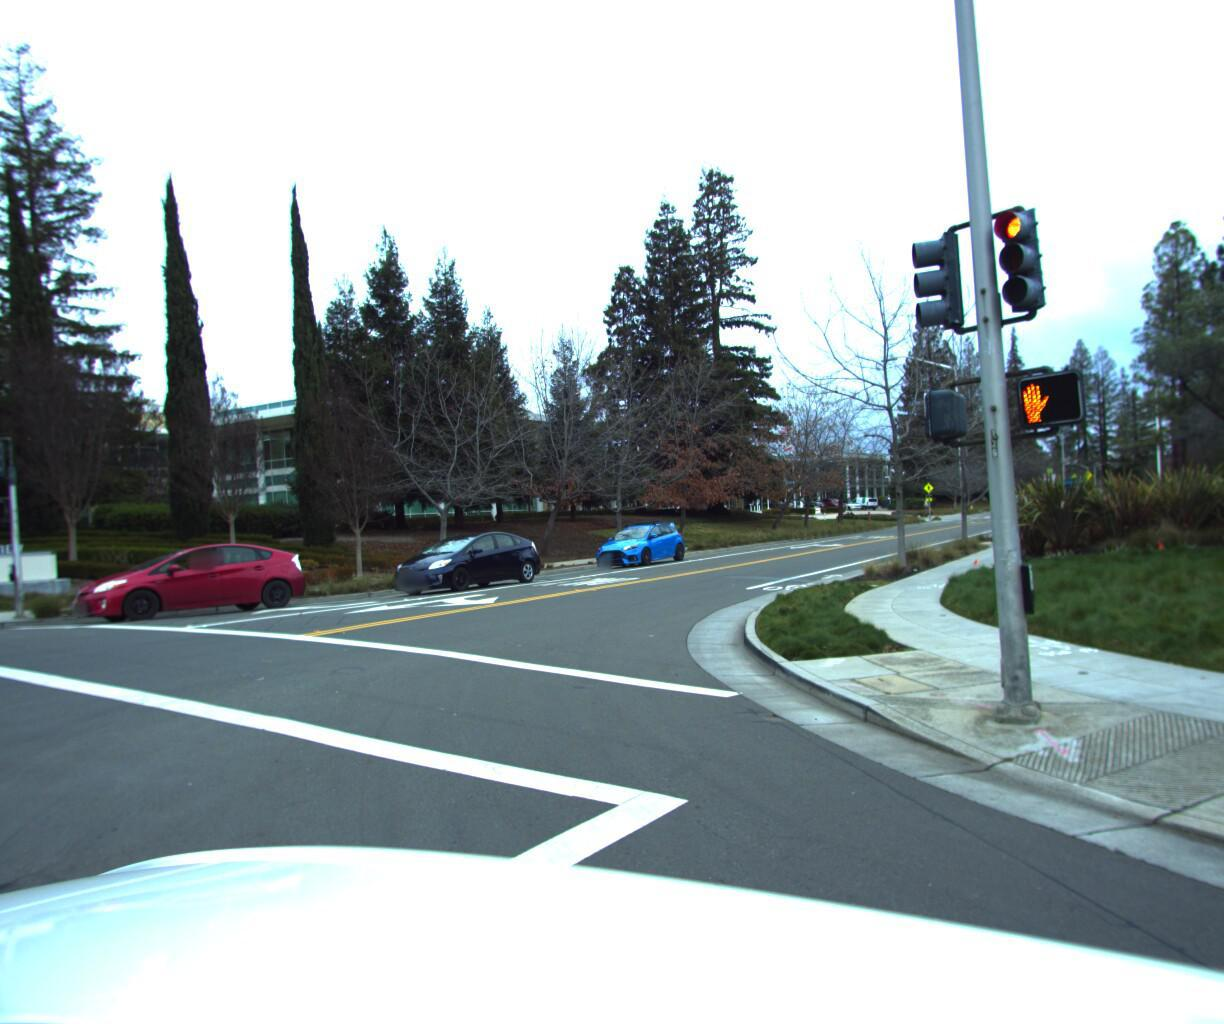car: (53, 534, 312, 625), (380, 520, 549, 592), (585, 513, 688, 565)
